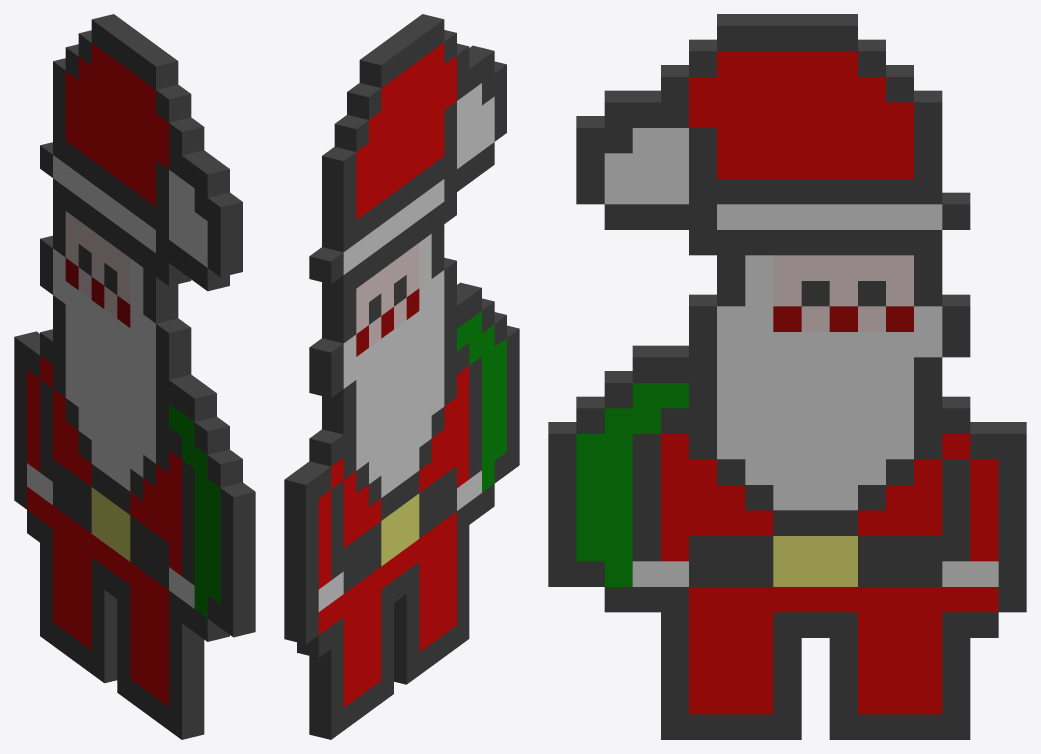
3 views of the same model, side by side, from view 1: azimuth 30°, elevation 25°; view 2: azimuth 150°, elevation 25°; view 3: azimuth 270°, elevation 25° (orthographic). The views are drawn at different scales.
Parts seen in each view (by area): view 1: VoxTransform; view 2: VoxTransform; view 3: VoxTransform.
Boxes of the visible parts, <box> form: VoxTransform: <box>14,14,255,739</box>; VoxTransform: <box>284,14,519,739</box>; VoxTransform: <box>548,14,1026,739</box>.
Bounding box in the file's own units: 1 × 28 × 17.
